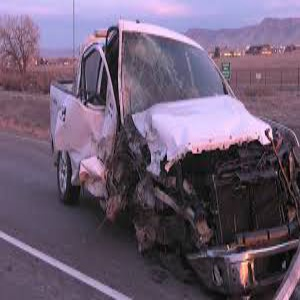bonnet: (140, 103, 271, 155)
bumper: (166, 179, 300, 298)
front_windshield_glass: (123, 35, 228, 95)
